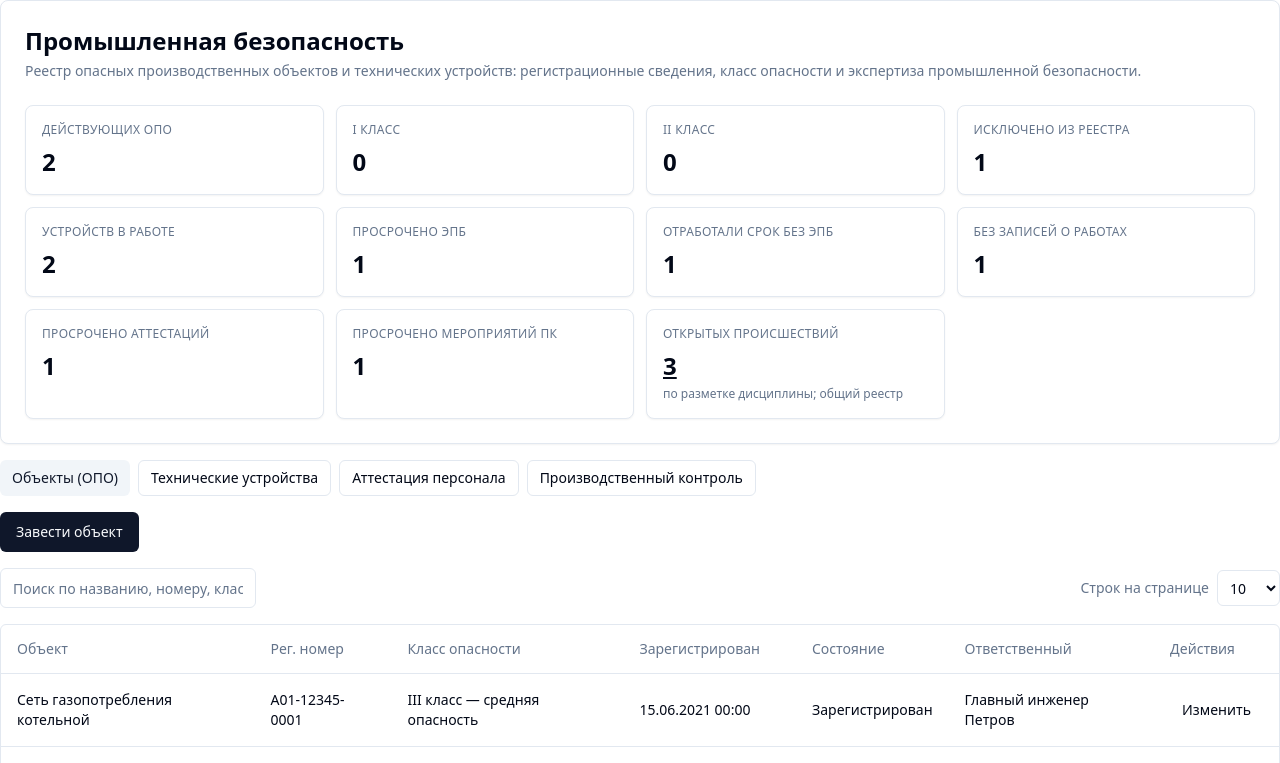
it: IndustrialSafetyPage › объект ОПО заводится с экрана, а не только через API (срез-105)
This screenshot has width=1280, height=763.
Click the button "Завести объект".
click(69, 532)  # box [0, 512, 139, 552]
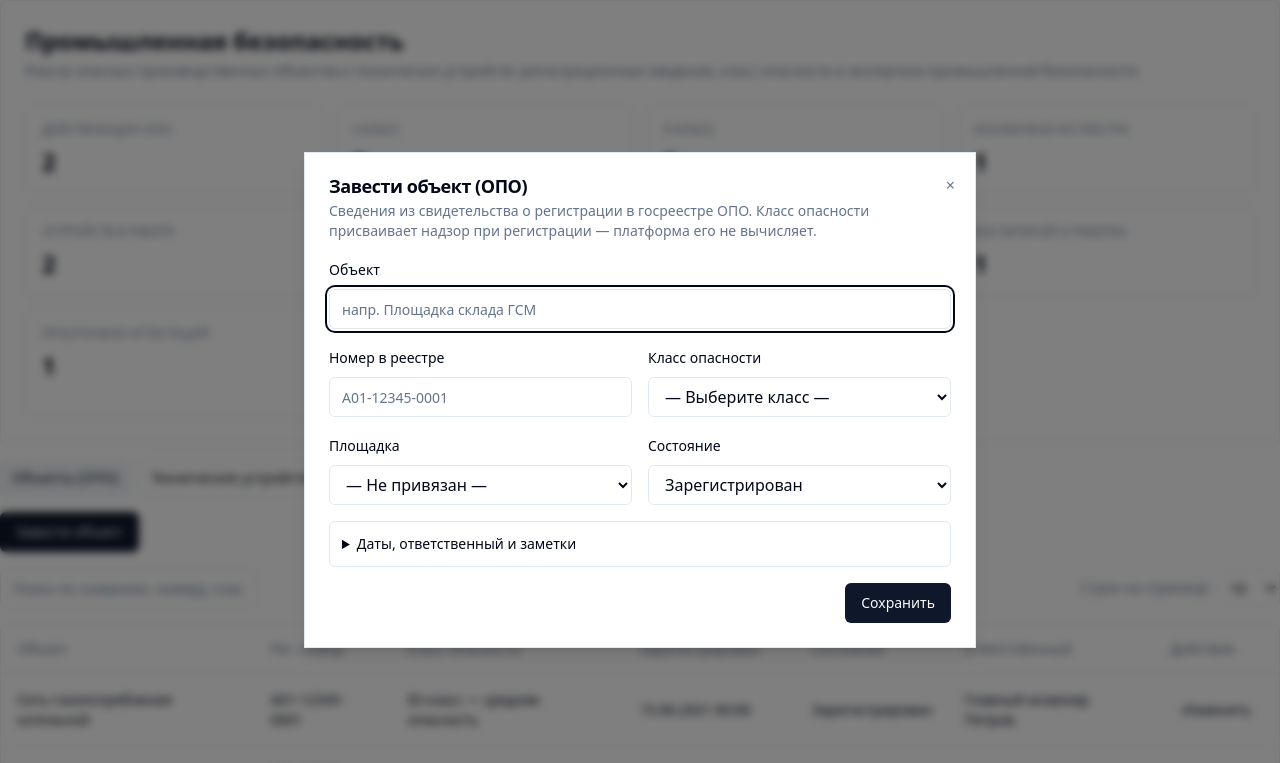
Type "Склад ГСМ" into the field labelled "Объект".
click(640, 309); type("Склад ГСМ")  # box [329, 289, 951, 329]
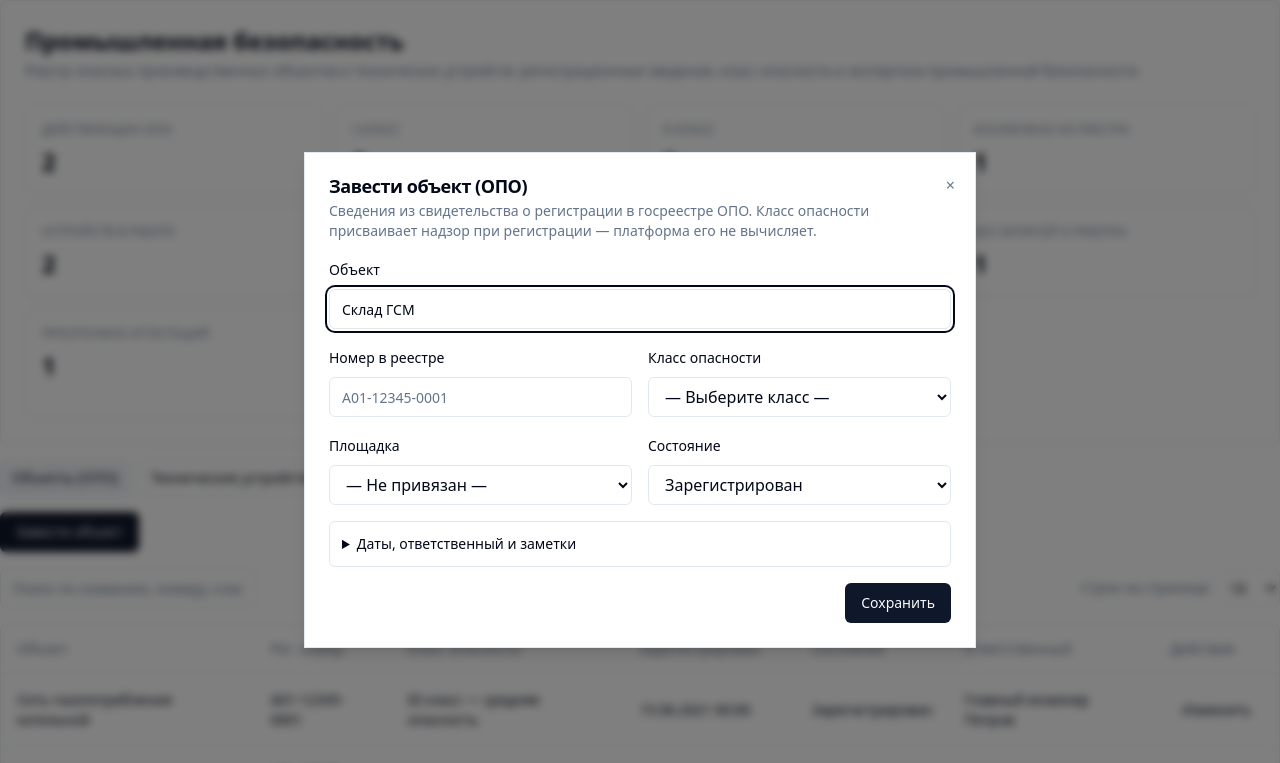
Type "А01-99999-0009" into the field labelled "Номер в реестре".
click(480, 397); type("А01-99999-0009")  # box [329, 377, 632, 417]
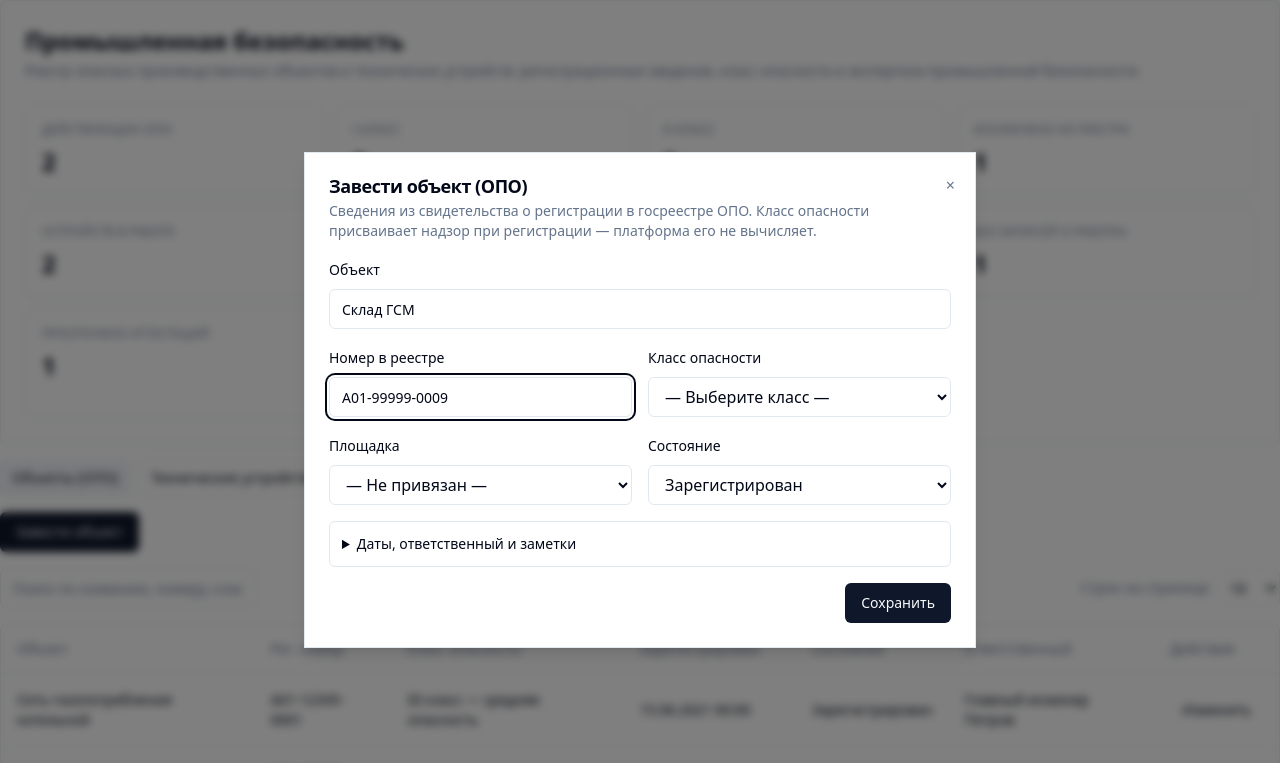
Select "III класс — средняя опасность" in the dropdown labelled "Класс опасности" at {"x": 800, "y": 397}, box [648, 377, 951, 417]
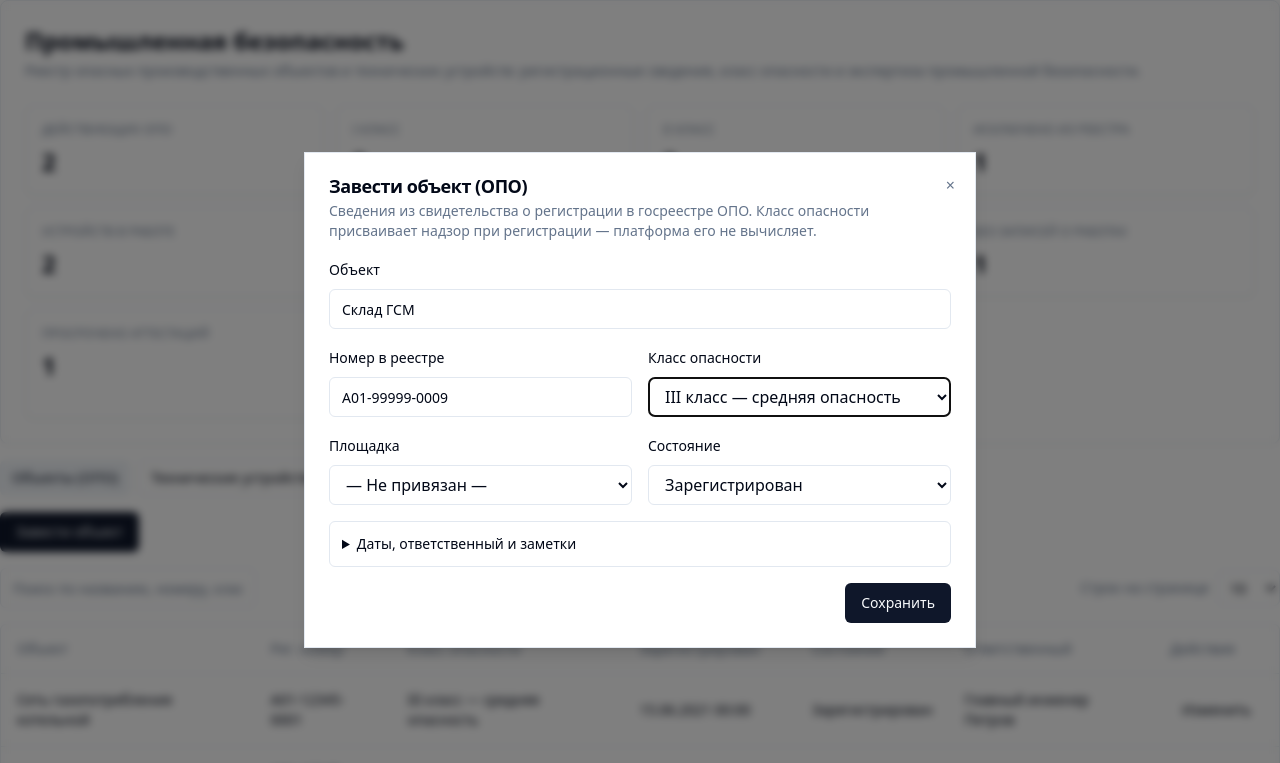
Select "Площадка №1" in the dropdown labelled "Площадка" at {"x": 480, "y": 485}, box [329, 465, 632, 505]
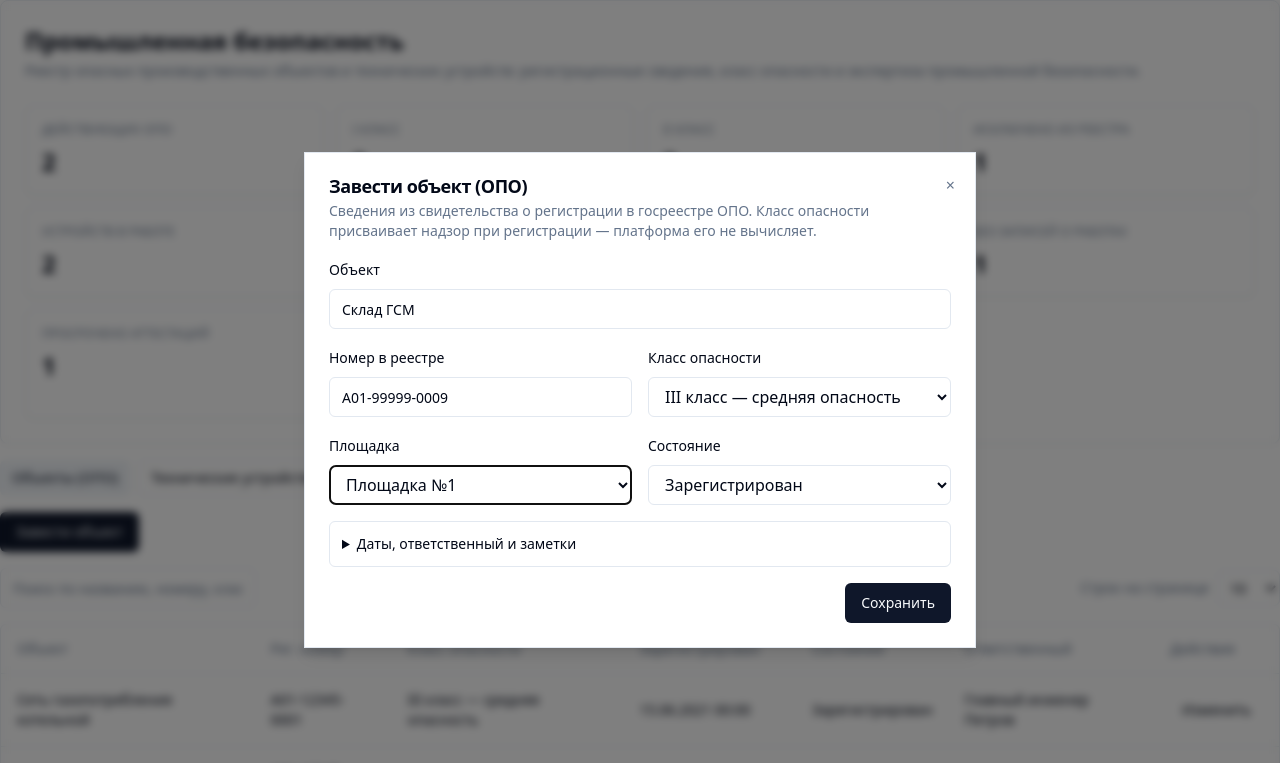
Click the button "Сохранить".
click(898, 603)  # box [845, 583, 951, 623]
(page scrolled)
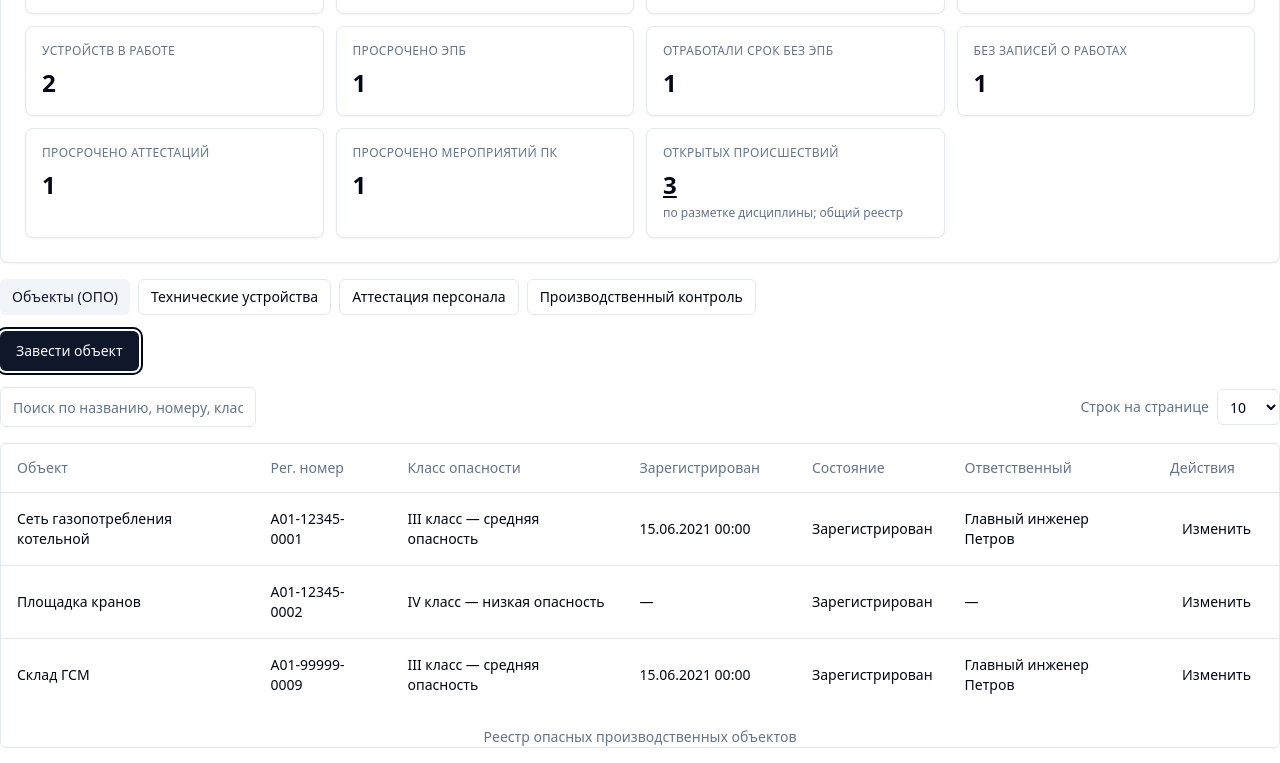
Check: the text "Склад ГСМ" is shown, box [1, 638, 254, 710]
